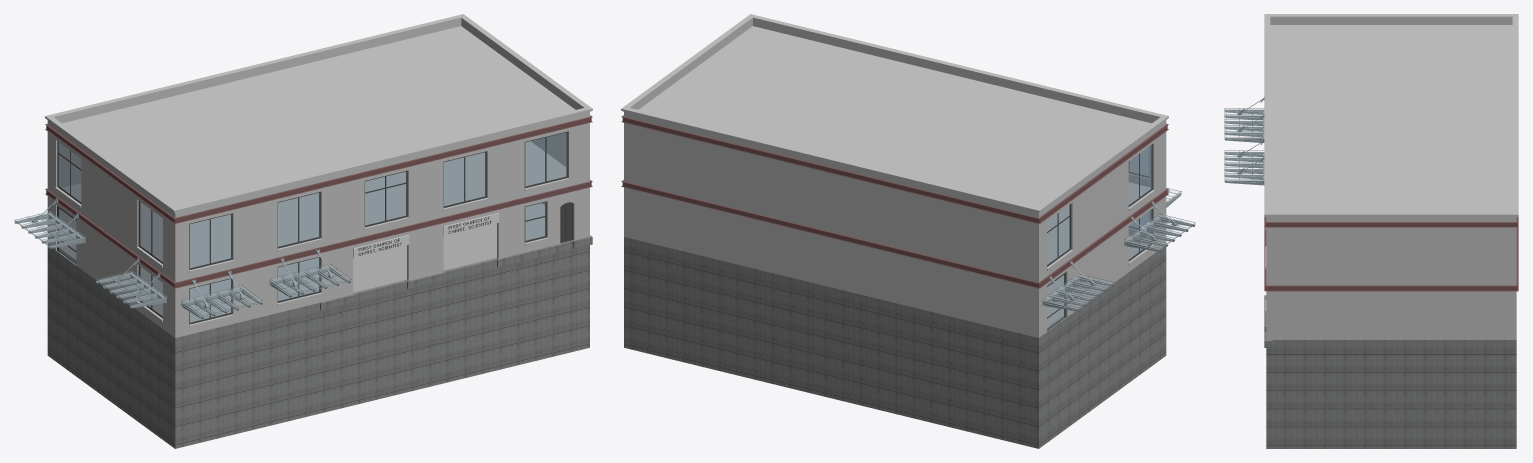
The model's file is A23_Building01.fbx.
The picture shows the model from 3 angles, left to right: view 1: azimuth 30°, elevation 25°; view 2: azimuth 150°, elevation 25°; view 3: azimuth 270°, elevation 25°; orthographic projection.
Parts seen in each view (by area): view 1: BD1916, BD1910, BD1913, BD1903, BD1906, BD1904, BD1907, BD1912, BD1909; view 2: BD1916, BD1910, BD1913, BD1909, BD1912; view 3: BD1916, BD1906, BD1903, BD1904, BD1907.
Part boxes in pixels (bbox=[...]): BD1916: bbox=[45, 14, 592, 448]; BD1910: bbox=[96, 258, 167, 308]; BD1913: bbox=[14, 198, 85, 248]; BD1903: bbox=[180, 271, 262, 318]; BD1906: bbox=[269, 249, 350, 297]; BD1904: bbox=[182, 286, 261, 314]; BD1907: bbox=[270, 265, 349, 293]; BD1912: bbox=[16, 212, 84, 244]; BD1909: bbox=[97, 272, 165, 304]; BD1916: bbox=[621, 14, 1168, 448]; BD1910: bbox=[1124, 201, 1195, 251]; BD1913: bbox=[1042, 261, 1113, 311]; BD1909: bbox=[1125, 214, 1193, 247]; BD1912: bbox=[1044, 274, 1112, 306]; BD1916: bbox=[1264, 14, 1518, 448]; BD1906: bbox=[1224, 139, 1264, 185]; BD1903: bbox=[1224, 97, 1264, 142]; BD1904: bbox=[1225, 109, 1263, 136]; BD1907: bbox=[1225, 151, 1263, 178].
Size of the model in its own units: 2570 by 1295 by 1470.
